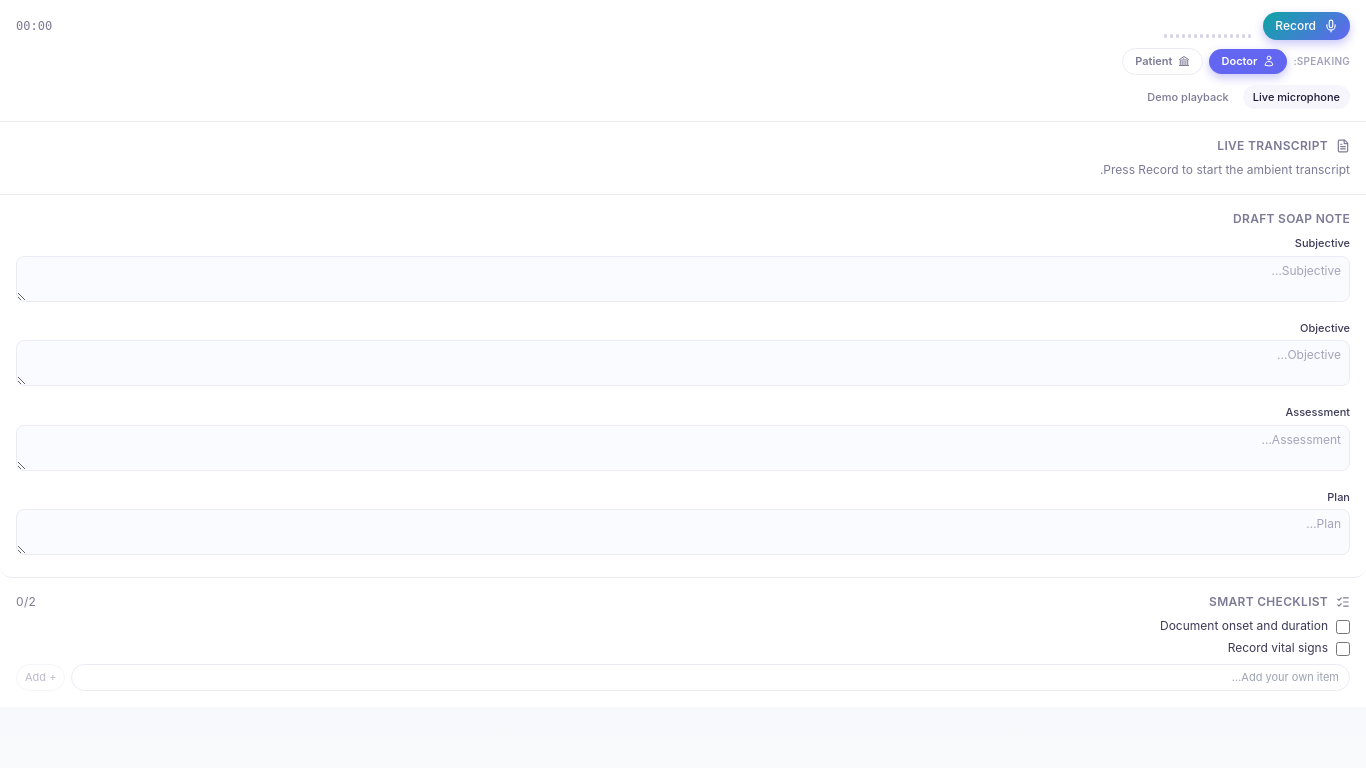
Smart checklist auto-proposal — wiring (CortexProvider) › keeps a row the clinician adds when the note did not name it
The image size is (1366, 768).
Type "Check stool sample" into the field with test id "checklist-add-input" at (711, 677), box left=71, top=664, right=1350, bottom=690
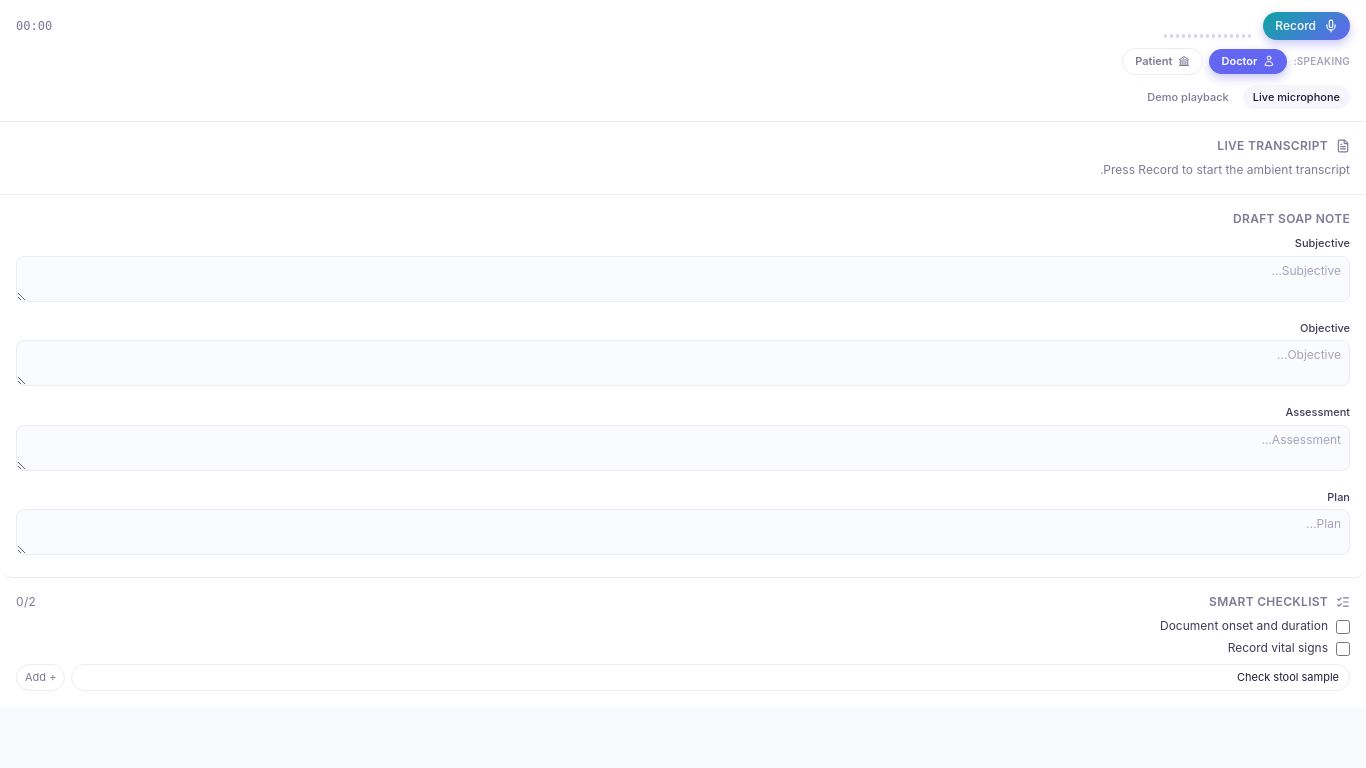
Click the button with test id "checklist-add-button" at (41, 677), box left=16, top=664, right=65, bottom=690
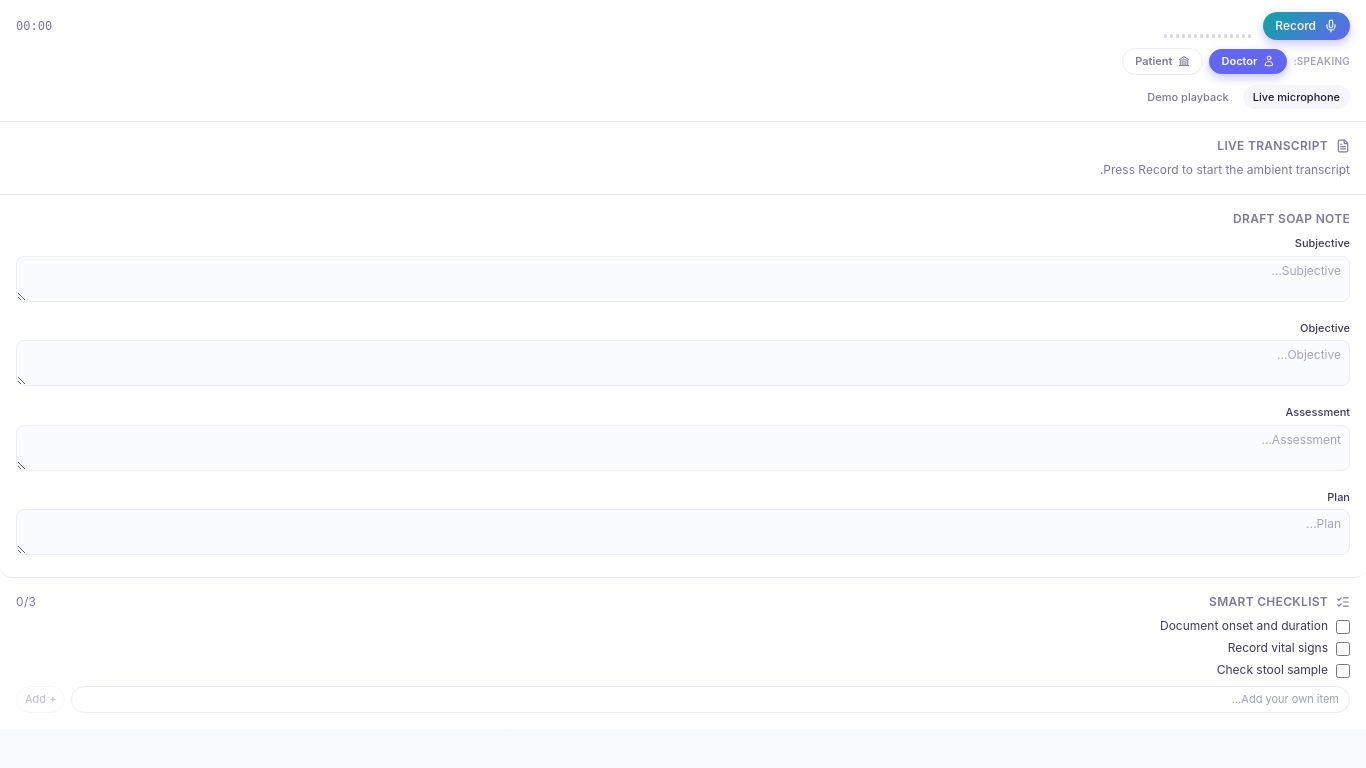
Now the checkbox labelled "Check stool sample" is shown, box left=1336, top=664, right=1350, bottom=678
